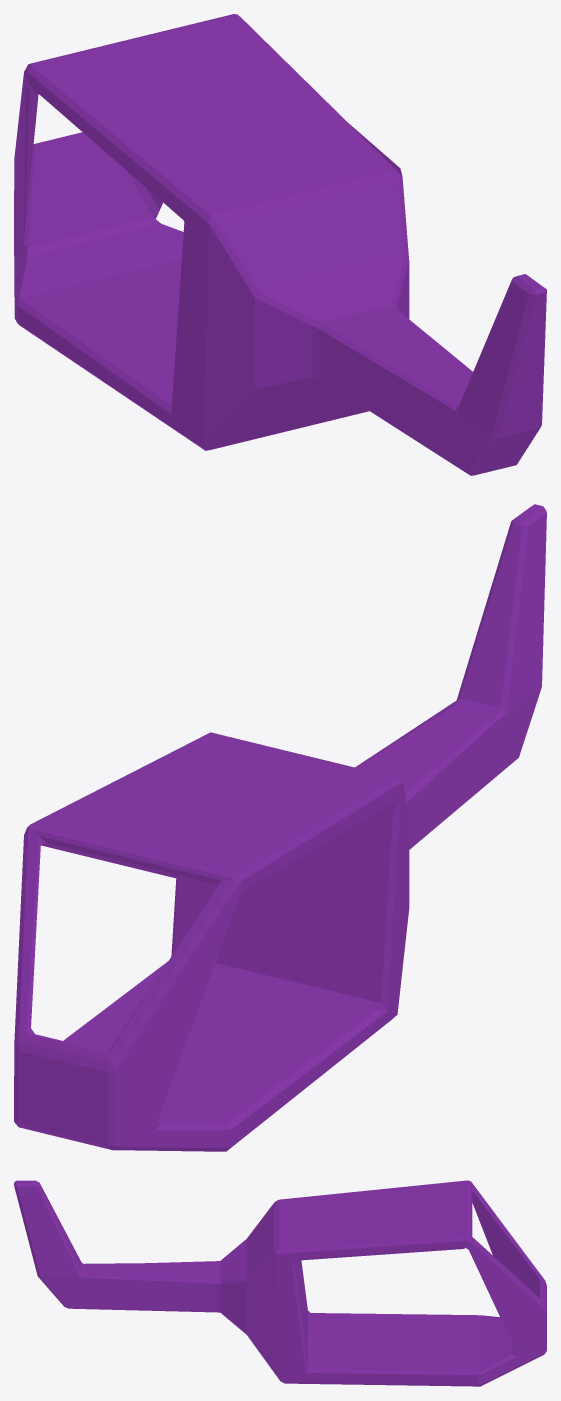
The model's file is helicopter.glb.
3 renders of one model, top to bottom at view 1: azimuth 30°, elevation 25°; view 2: azimuth 150°, elevation 25°; view 3: azimuth 270°, elevation 25°, orthographic. The views are drawn at different scales.
Parts seen in each view (by area): view 1: Plano; view 2: Plano; view 3: Plano.
Part boxes in pixels (x1,y1,x2,y2): Plano: (14, 14, 546, 475); Plano: (14, 504, 546, 1151); Plano: (14, 1180, 546, 1386).
Bounding box in the file's own units: 2.66 × 3.72 × 10.18.
